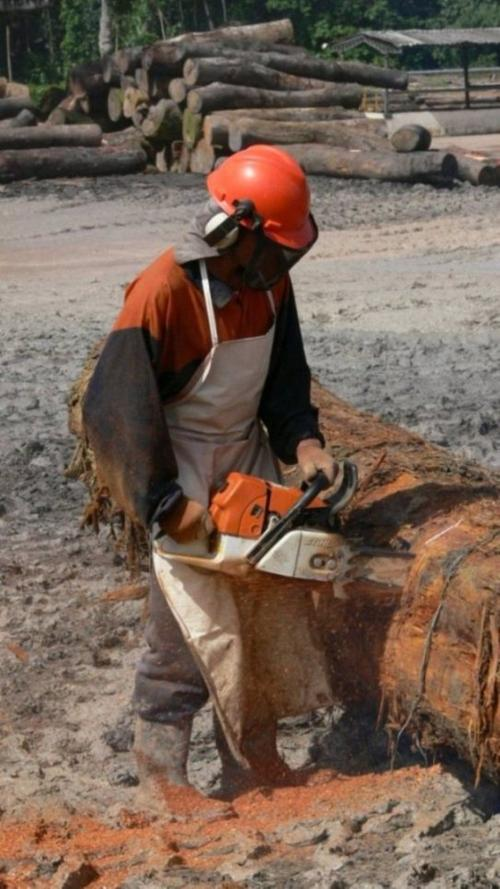person: (83, 142, 341, 789)
